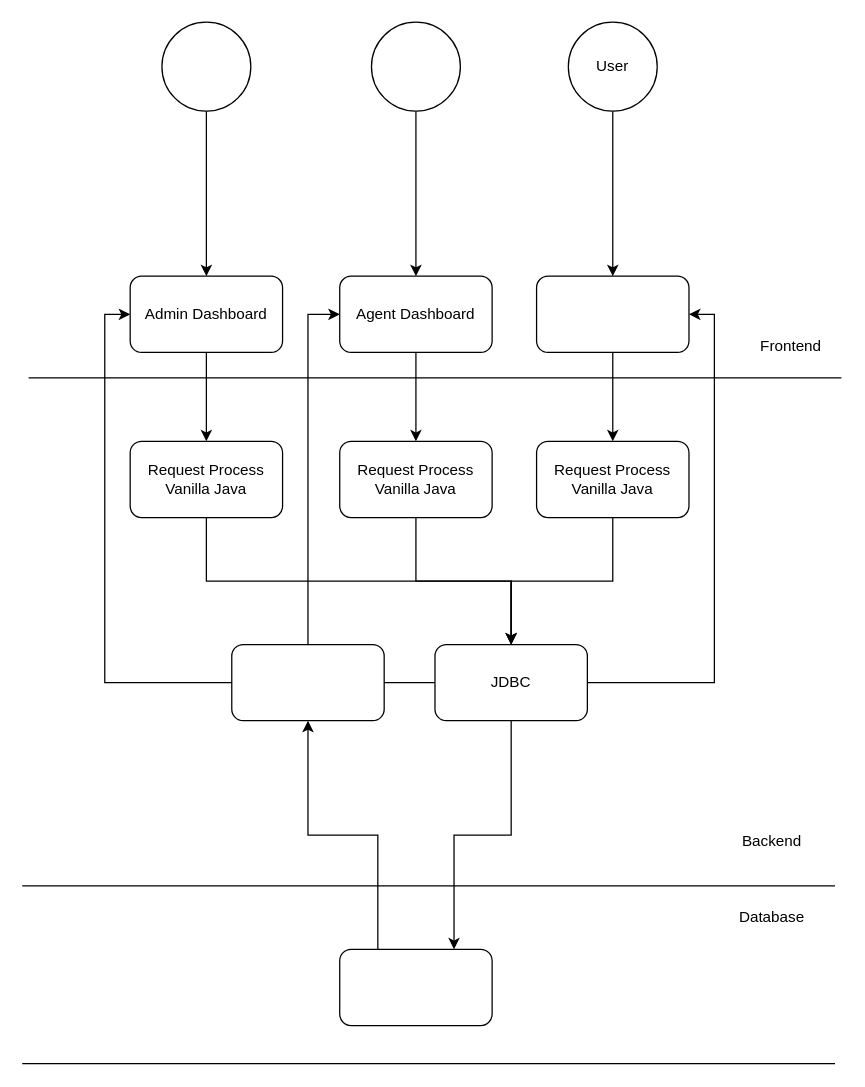
The diagram is 865 pixels wide and 1087 high, and some of its shapes have lost their labels. The centre of each missing label's shape, as x and y in pixels:
"Admin" goes at [206,66].
"Agents" goes at [415,66].
"Response Vanilla Java" goes at [307,682].
"User Dashboard" goes at [612,313].
